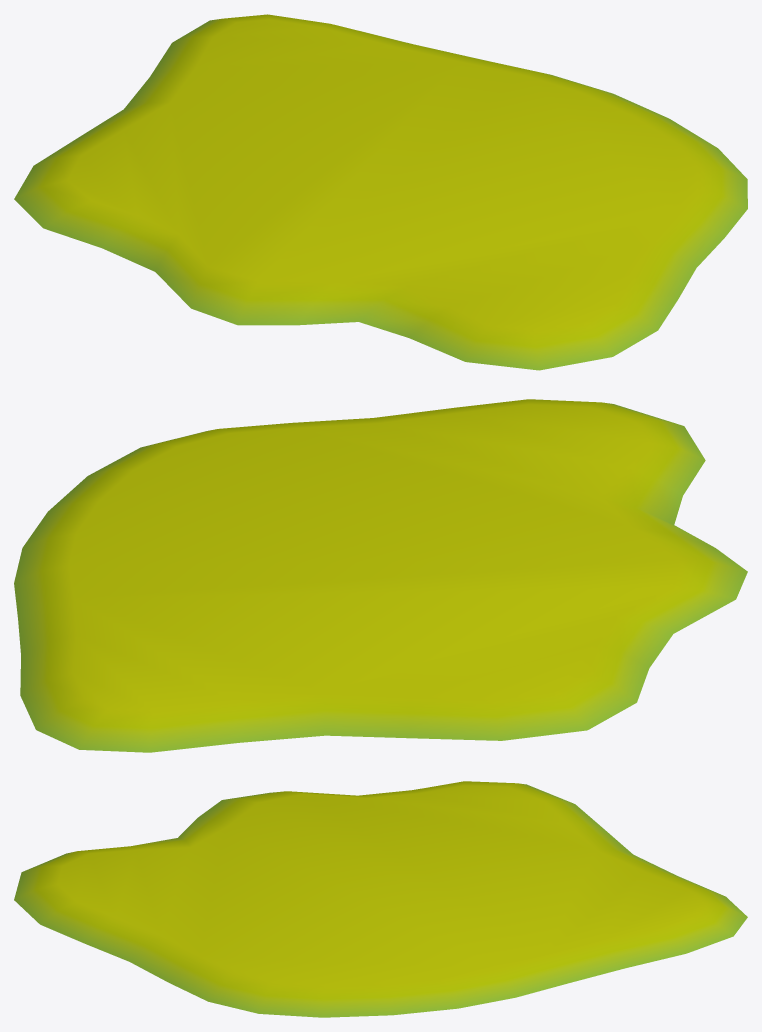
File: puddle1.fbx
3 renders of one model, top to bottom at view 1: azimuth 30°, elevation 25°; view 2: azimuth 150°, elevation 25°; view 3: azimuth 270°, elevation 25°, orthographic. The views are drawn at different scales.
Parts seen in each view (by area): view 1: puddle1; view 2: puddle1; view 3: puddle1.
Part boxes in pixels (x1,y1,x2,y2): puddle1: (14, 14, 747, 370); puddle1: (14, 399, 747, 752); puddle1: (14, 781, 747, 1017).
Bounding box in the file's own units: 534 × 15.02 × 700.
